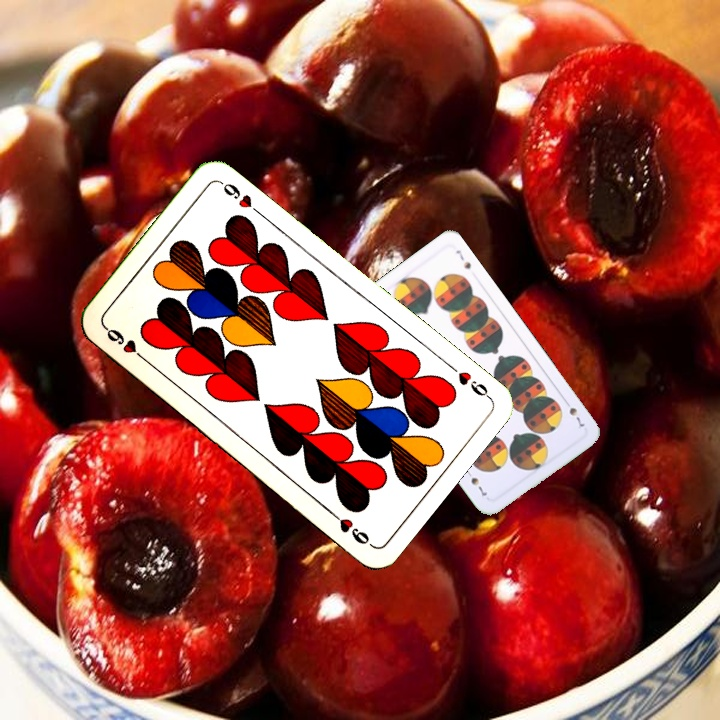H9: (100, 323, 150, 365), (443, 359, 493, 401)
S7: (560, 395, 588, 430)
